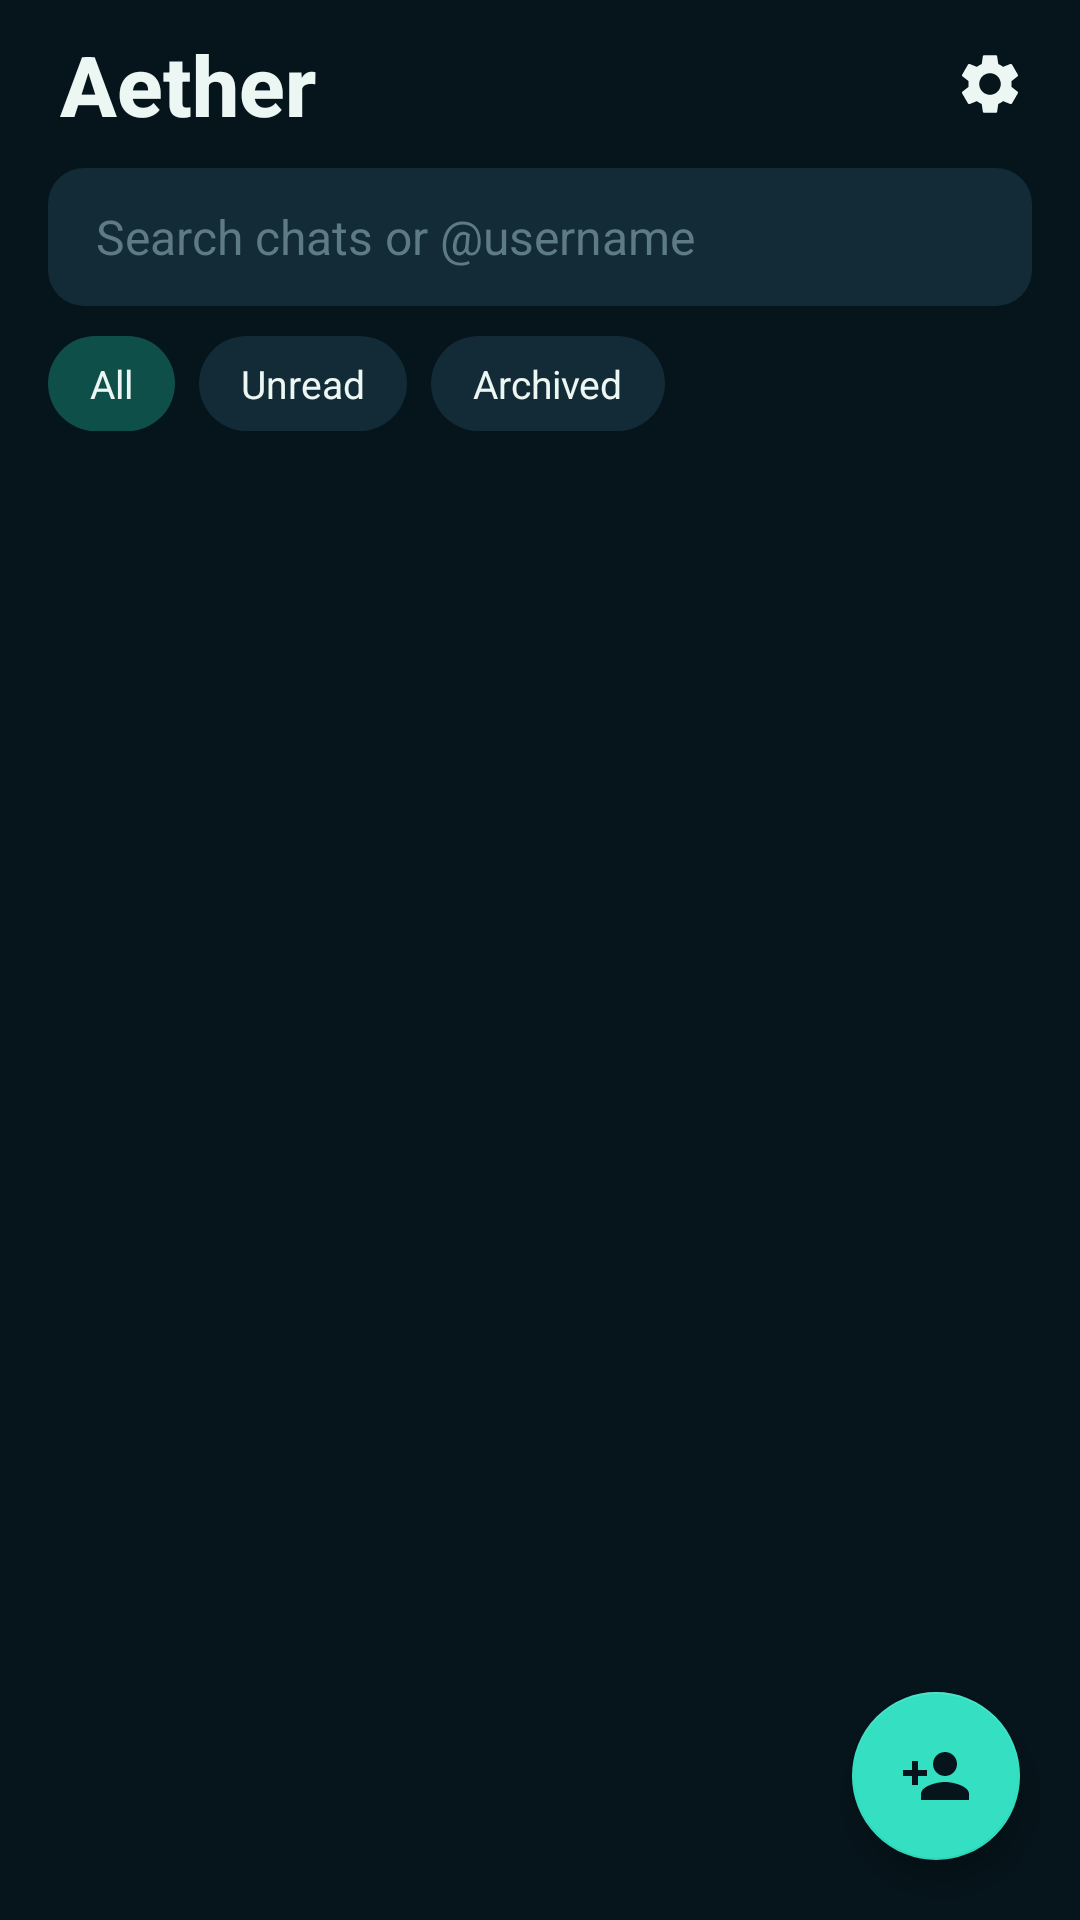

Icons on this 1080w x 1920h Android screen, each with its box as (x1, y1, x2, y2):
Add friend: (852, 1692, 1020, 1860)
Settings: (962, 55, 1018, 113)
